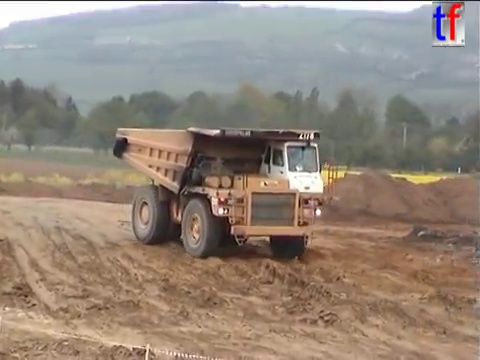truck: (110, 124, 341, 260)
